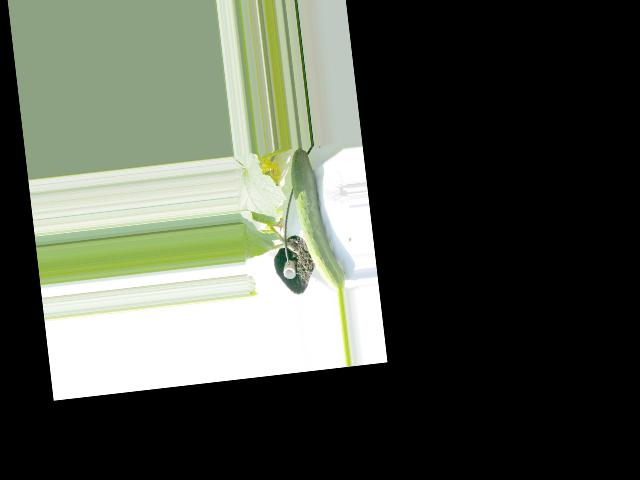cucumber: (288, 144, 346, 296)
